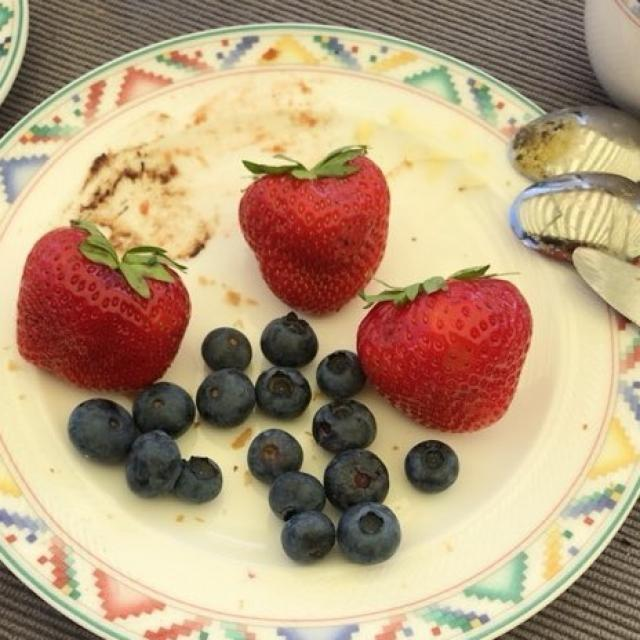blueberries: (89, 315, 452, 565)
strawberries: (10, 146, 527, 437)
